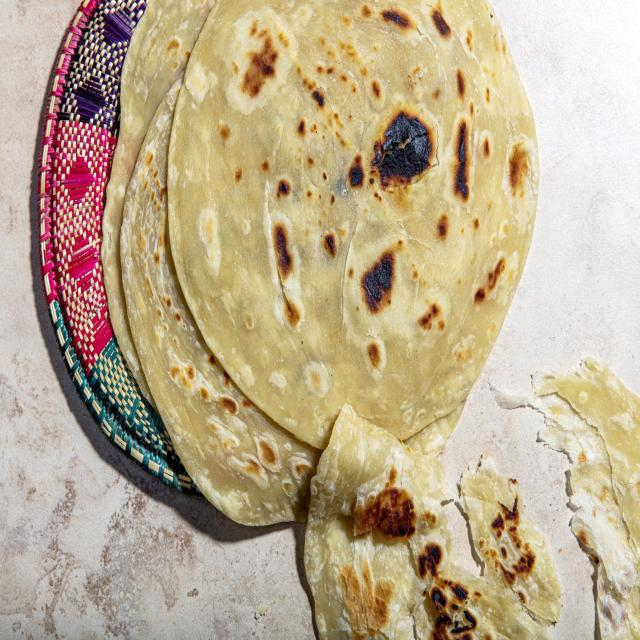CHAPATHI: (104, 0, 539, 536)
